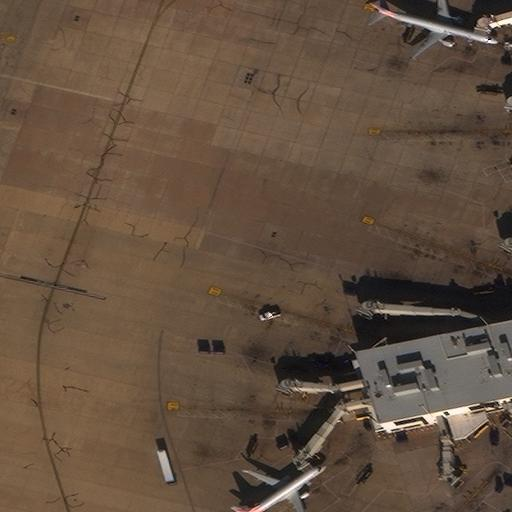Medium Civil Transport: (369, 0, 498, 57), (241, 465, 326, 512)
